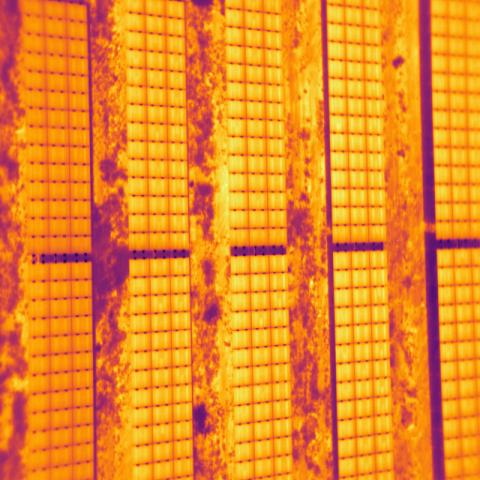fault: (329, 116, 350, 134), (371, 287, 389, 305)
